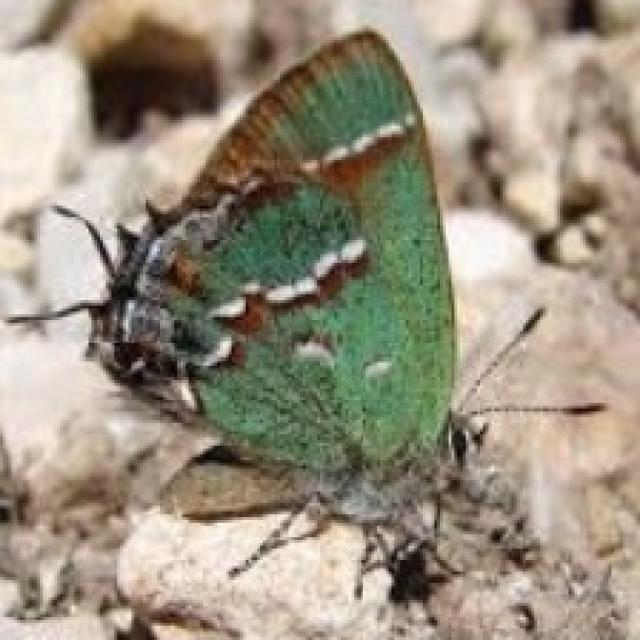butterfly: (3, 23, 606, 600)
